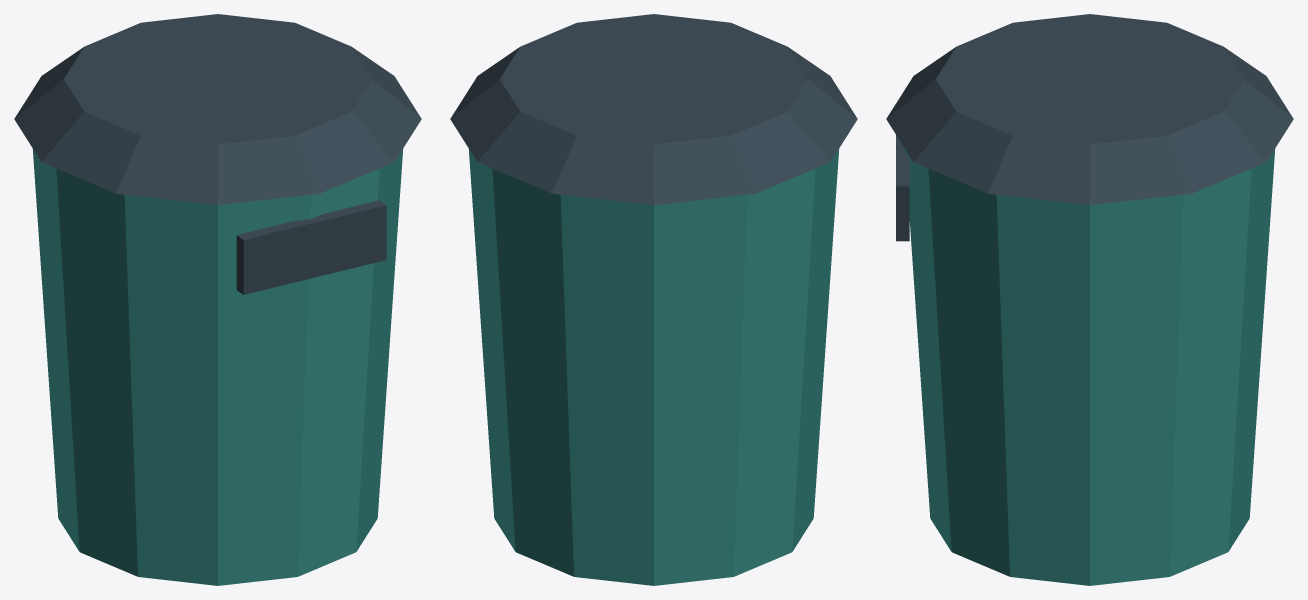
Rendered from trash_bin.glb.
The picture shows the model from 3 angles, left to right: view 1: azimuth 30°, elevation 25°; view 2: azimuth 150°, elevation 25°; view 3: azimuth 270°, elevation 25°; orthographic projection.
Parts seen in each view (by area): view 1: bin, lid, slot; view 2: bin, lid; view 3: bin, lid, slot.
Boxes of the visible parts, box(x1,y1,x2,y2) form: bin: box(32, 149, 403, 585); lid: box(14, 14, 421, 205); slot: box(236, 200, 386, 294); bin: box(468, 149, 839, 585); lid: box(450, 14, 857, 205); bin: box(904, 149, 1275, 585); lid: box(886, 14, 1293, 205); slot: box(896, 135, 909, 241).
Bounding box in the file's own units: 0.74 × 0.88 × 0.74.
